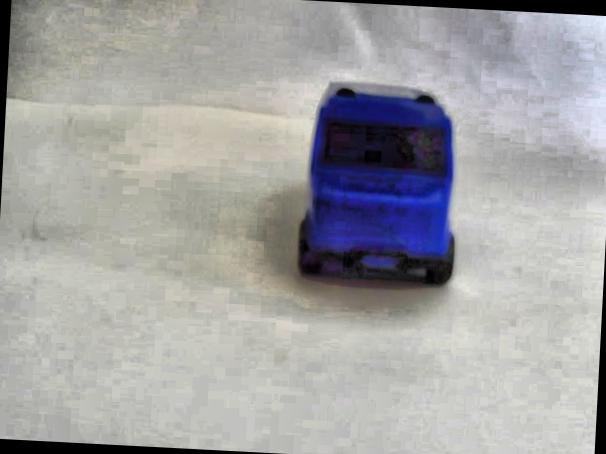police car: (298, 76, 470, 300)
